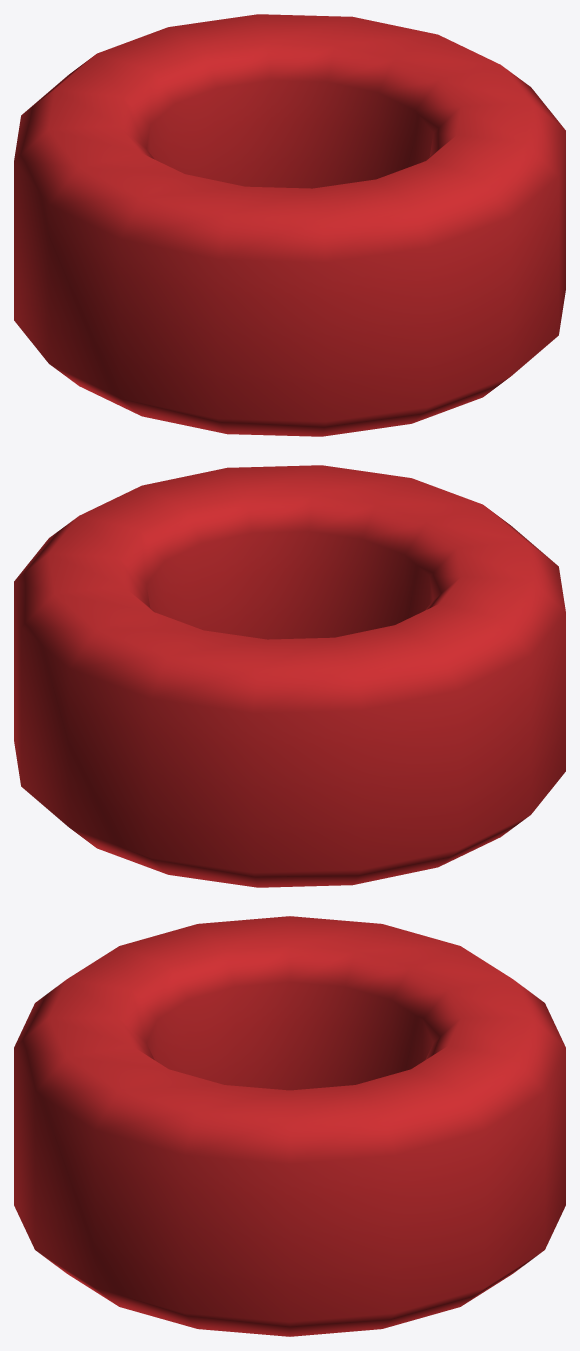
The model's file is Barrier_Wheel_05.fbx.
3 views of the same model, one above another, from view 1: azimuth 30°, elevation 25°; view 2: azimuth 150°, elevation 25°; view 3: azimuth 270°, elevation 25° (orthographic).
Parts seen in each view (by area): view 1: Barrier_Wheel_05; view 2: Barrier_Wheel_05; view 3: Barrier_Wheel_05.
Boxes of the visible parts, x1,y1,x2,y2 form: Barrier_Wheel_05: [14, 14, 565, 436]; Barrier_Wheel_05: [14, 465, 565, 887]; Barrier_Wheel_05: [14, 916, 565, 1336].
Size of the model in its own units: 100 by 100 by 43.33.
